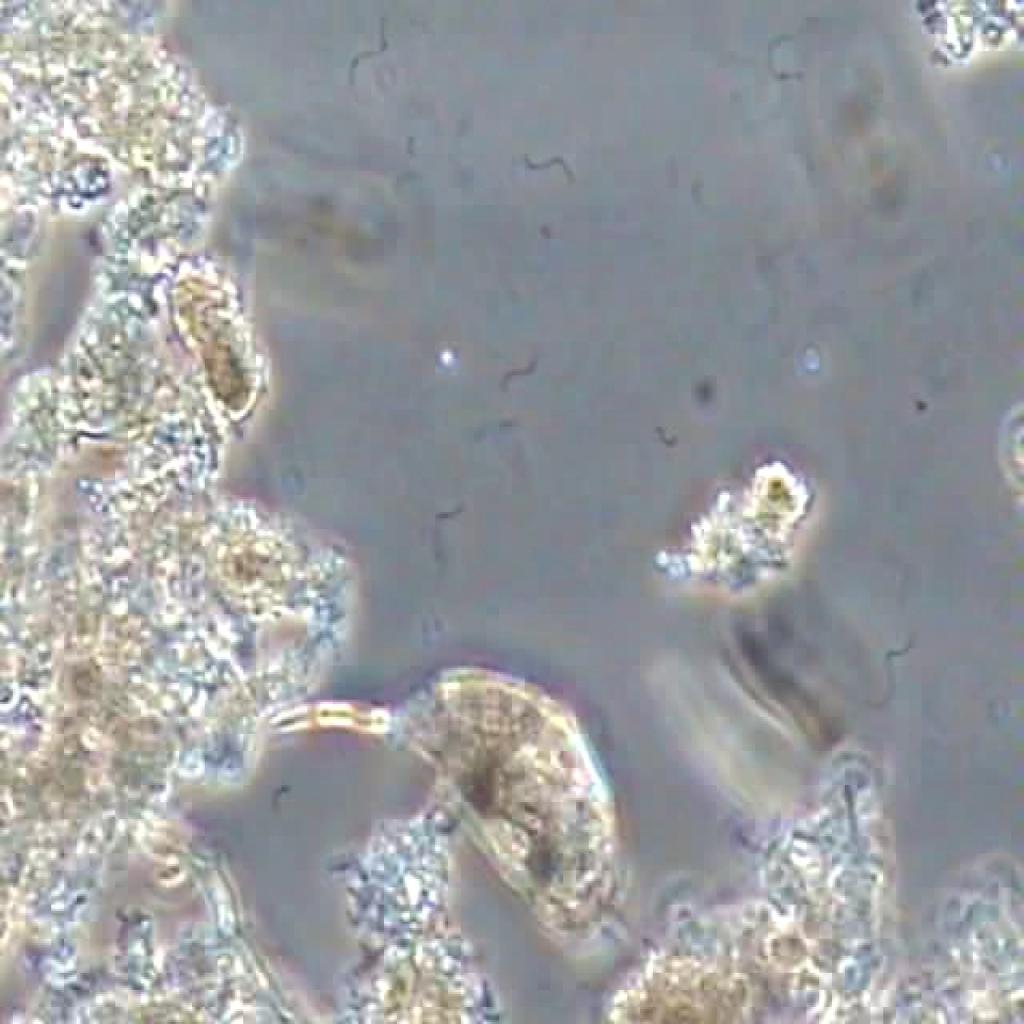Rotatoria: (292, 638, 638, 968)
